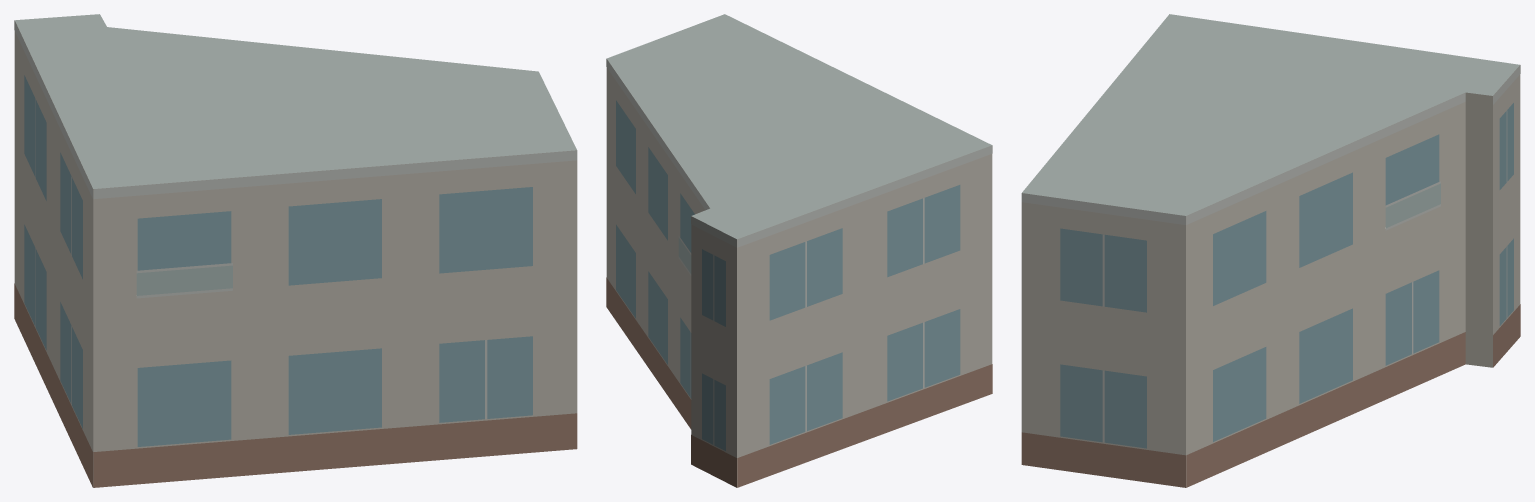
The model's file is survey-upis-32473683.glb.
3 views of the same model, side by side, from view 1: azimuth 30°, elevation 25°; view 2: azimuth 150°, elevation 25°; view 3: azimuth 270°, elevation 25° (orthographic). The views are drawn at different scales.
Parts seen in each view (by area): view 1: survey-upis-32473683.tmp; view 2: survey-upis-32473683.tmp; view 3: survey-upis-32473683.tmp.
Part boxes in pixels (x1=…): survey-upis-32473683.tmp: x1=14, y1=14, x2=577, y2=487; survey-upis-32473683.tmp: x1=606, y1=14, x2=992, y2=487; survey-upis-32473683.tmp: x1=1021, y1=14, x2=1520, y2=487.
Bounding box in the file's own units: 11.48 × 7.2 × 11.98.
